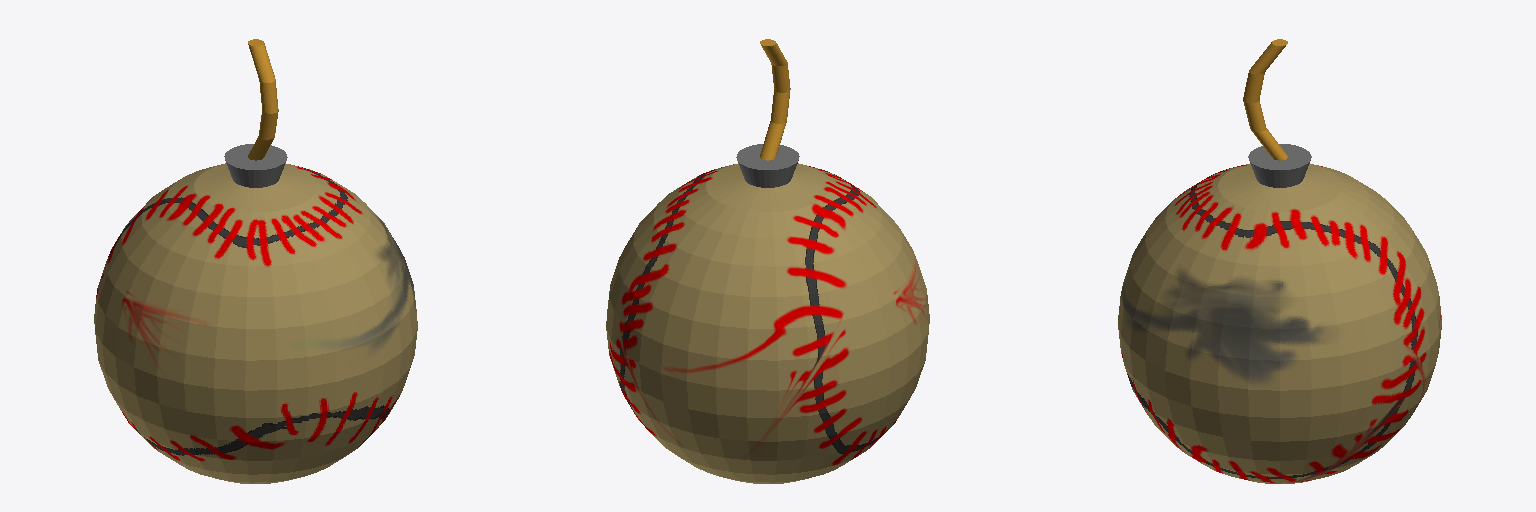
The picture shows the model from 3 angles: view 1: azimuth 30°, elevation 25°; view 2: azimuth 150°, elevation 25°; view 3: azimuth 270°, elevation 25°; orthographic projection.
Visible parts, largest first — view 1: Sphere; view 2: Sphere; view 3: Sphere.
Boxes of the visible parts, box(x1,y1,x2,y2) form: Sphere: box(94, 39, 417, 483); Sphere: box(606, 39, 929, 483); Sphere: box(1118, 39, 1441, 483).
Bounding box in the file's own units: 2 × 2.9 × 2.
Materials: 1 (1 with a texture image).